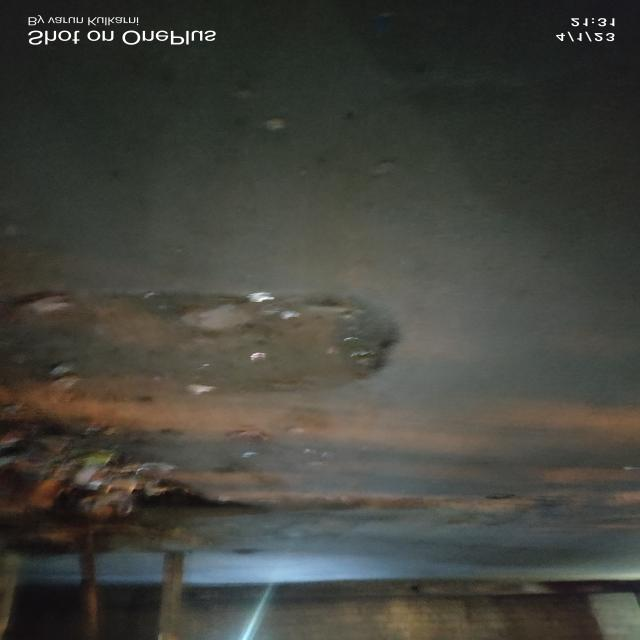potholes: (14, 277, 388, 390)
